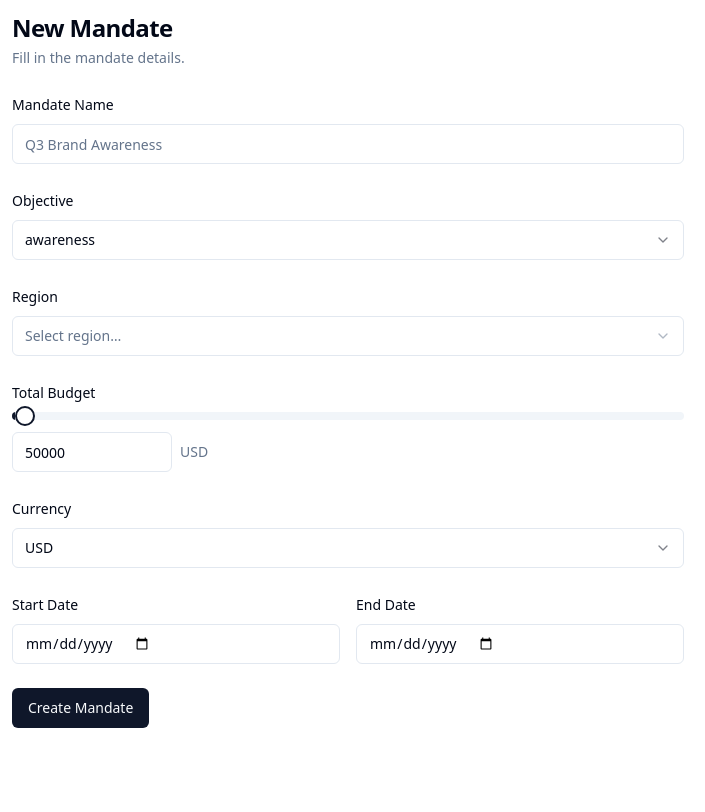
Test case: MandateFormPage › shows validation error when name is too short
In the field with placeholder "Q3 Brand Awareness": (348, 144) [12,124,684,164], type "ab"
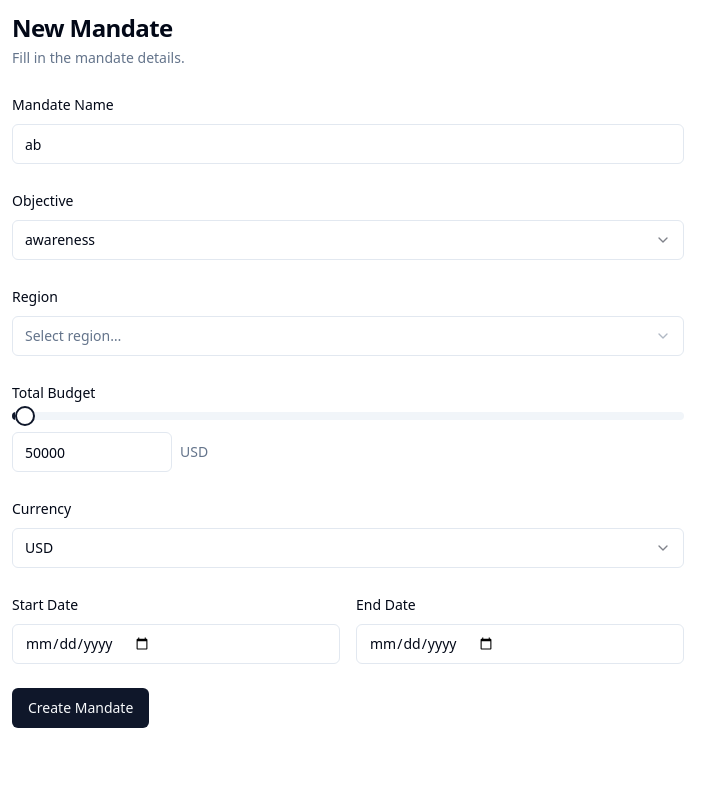
Click the button "Create Mandate": (81, 708) [12,688,149,728]
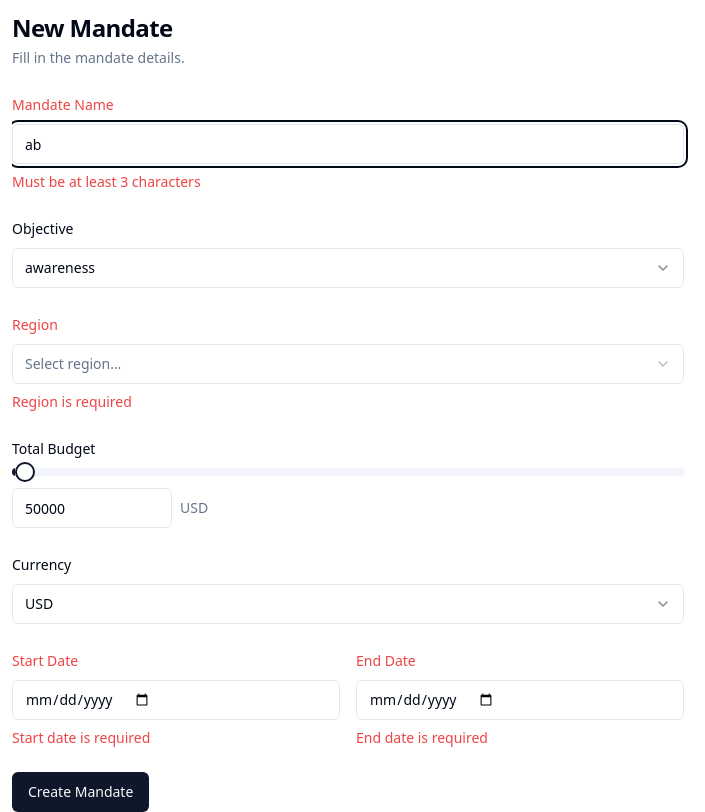
Expected: the text "Must be at least 3 characters" is shown, [12,172,201,191]
